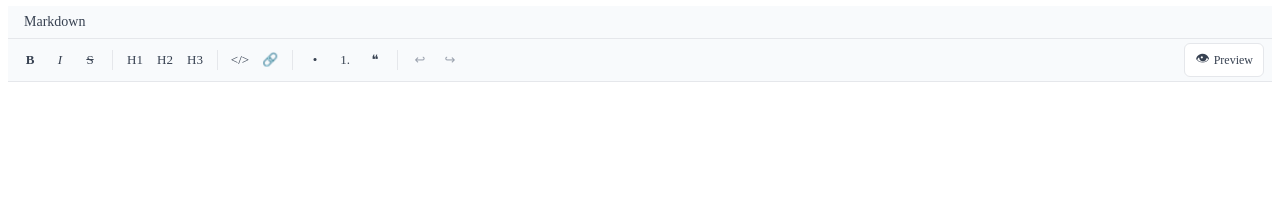
it: MarkdownEditor › 表示モード切り替え › プレビューモードでEditボタンをクリックするとテキストモードに戻る
Note: プレビューモードに切り替え
Click the button with aria-label "プレビュー表示に切り替え" at (1224, 60), box [1184,43,1264,77]
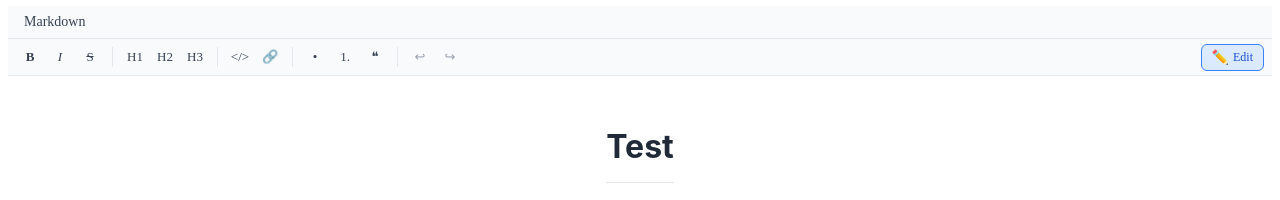
Note: テキストモードに戻る
Click the button with aria-label "テキスト編集に切り替え" at (1232, 57), box [1200,44,1264,70]
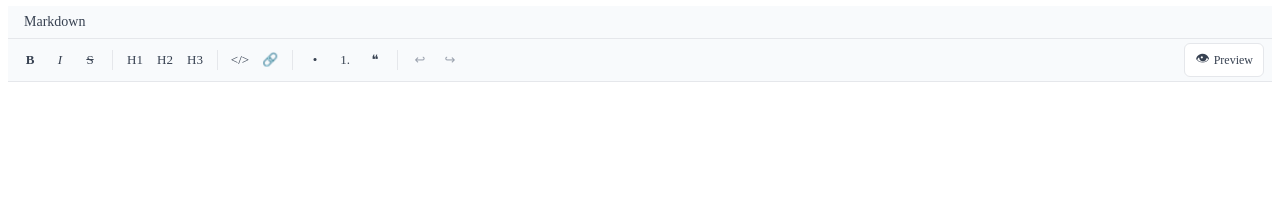
Expected: the text "Preview" is shown, [1214,52,1253,68]
